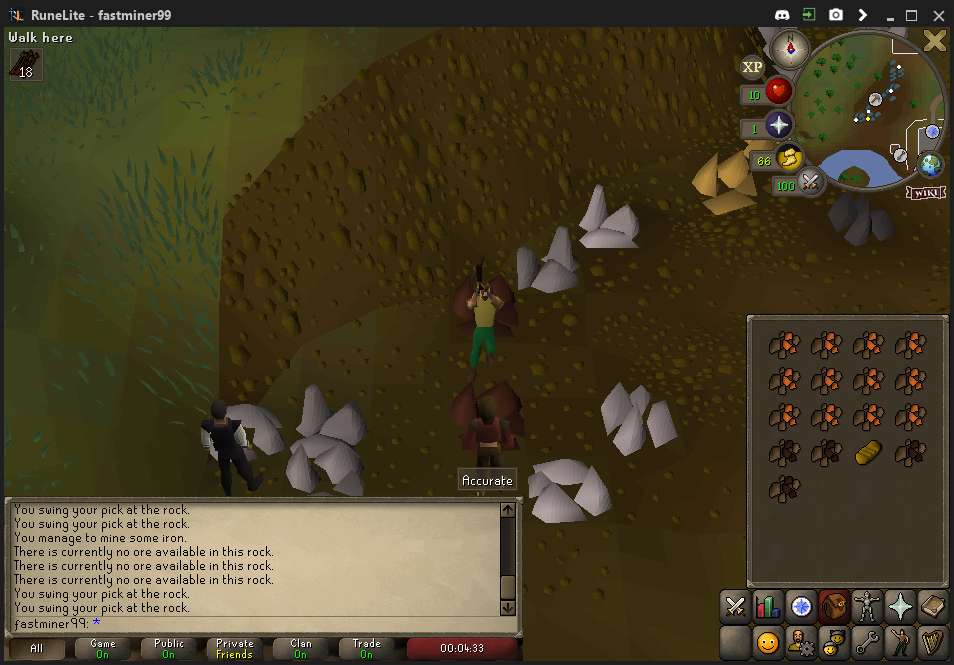ore: (451, 379, 528, 449), (446, 277, 524, 339)
